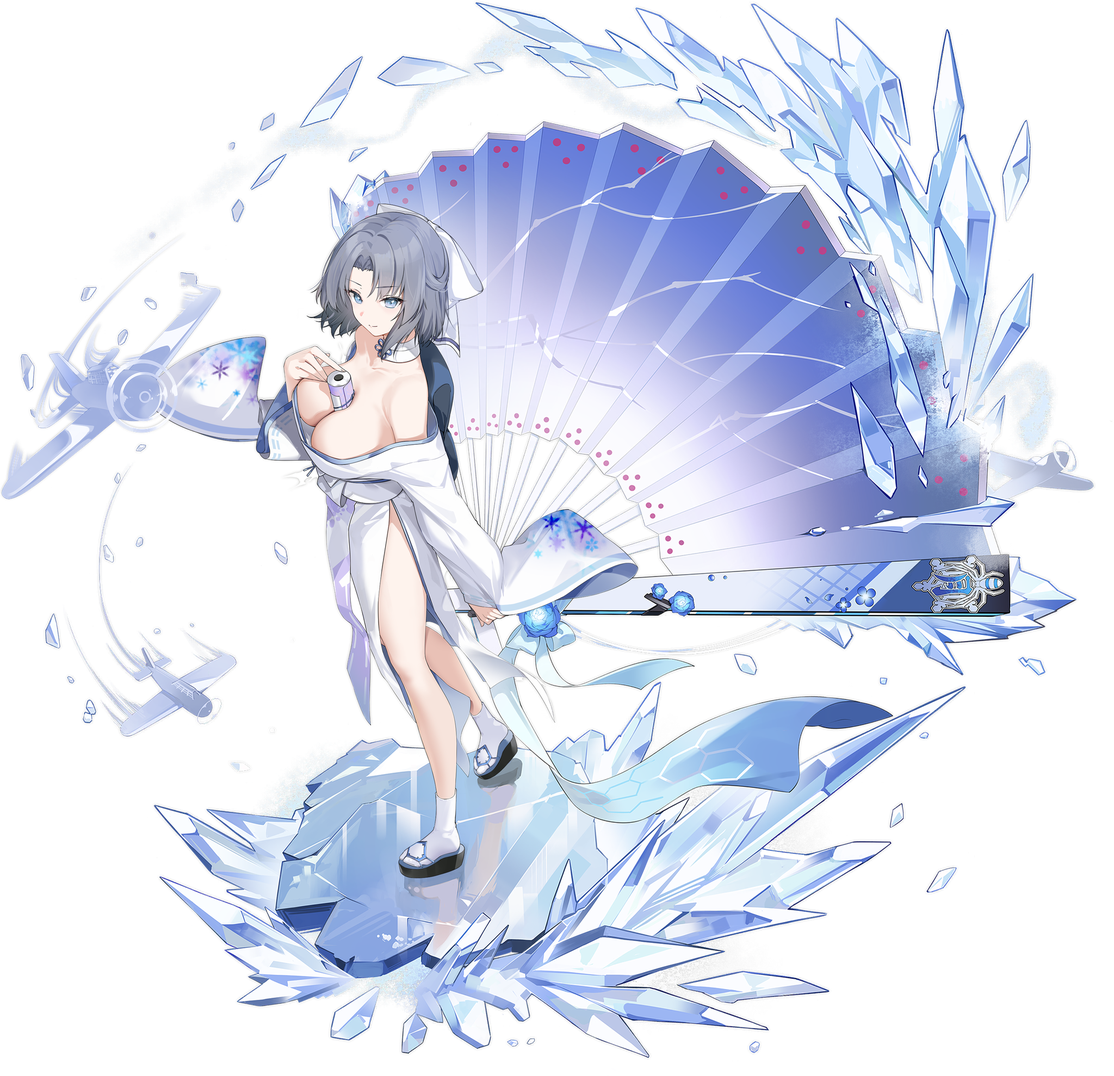person: (249, 165, 658, 920)
